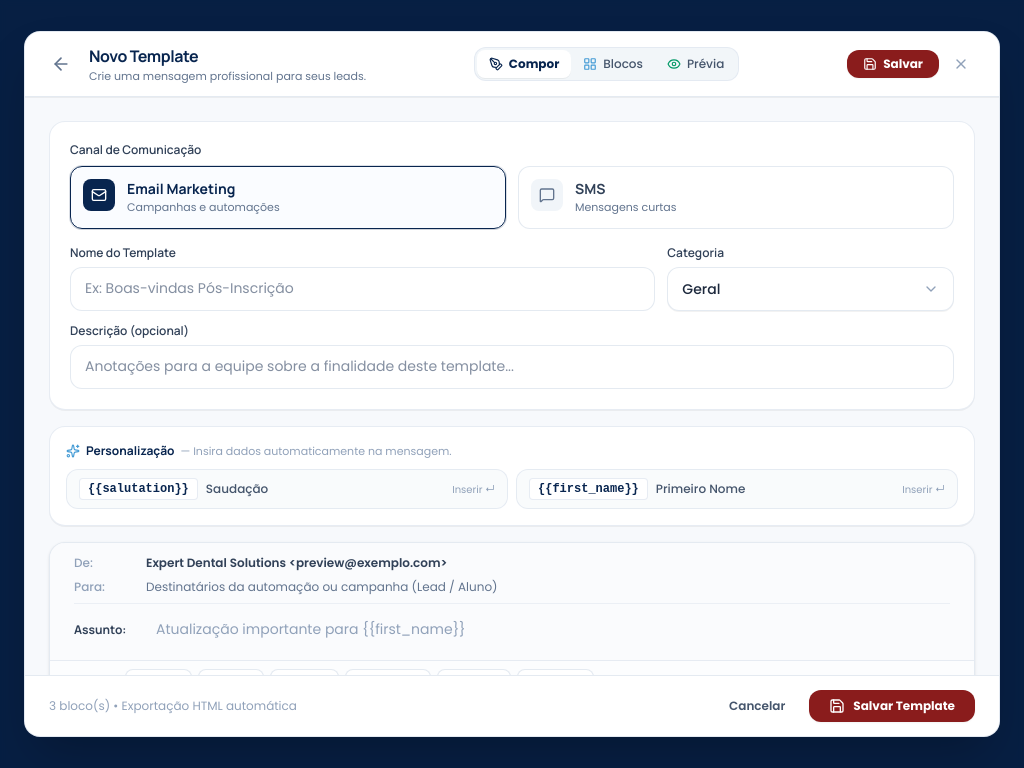
Test: EDS HUB — Template Editor Premium Redesign: Component & UX Tests › TemplateEditorModal: SMS Channel › switches to SMS channel and isolates from Email block builder
Select SMS channel card
Click the button "SMS Mensagens curtas" at (547, 195), box [518,166,954,229]
(page scrolled)
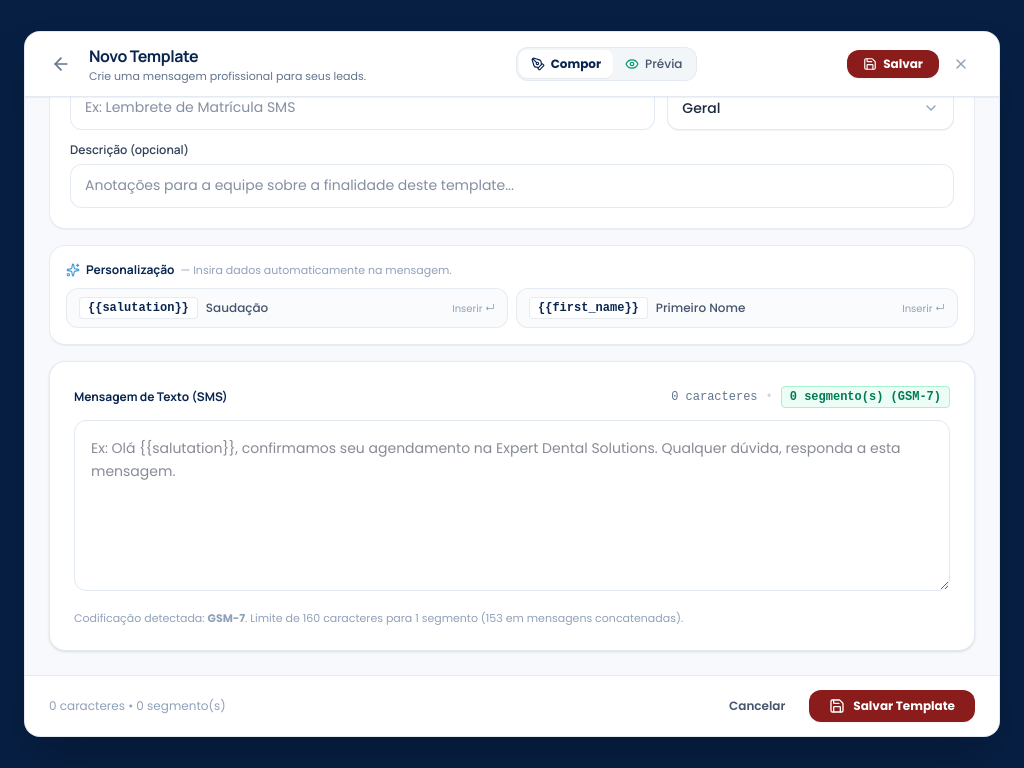
Expected: the text "Mensagem de Texto (SMS)" is shown, [74,389,228,405]
Expected: the button "Blocos" is gone
Expected: the label labelled "Assunto:" is gone
